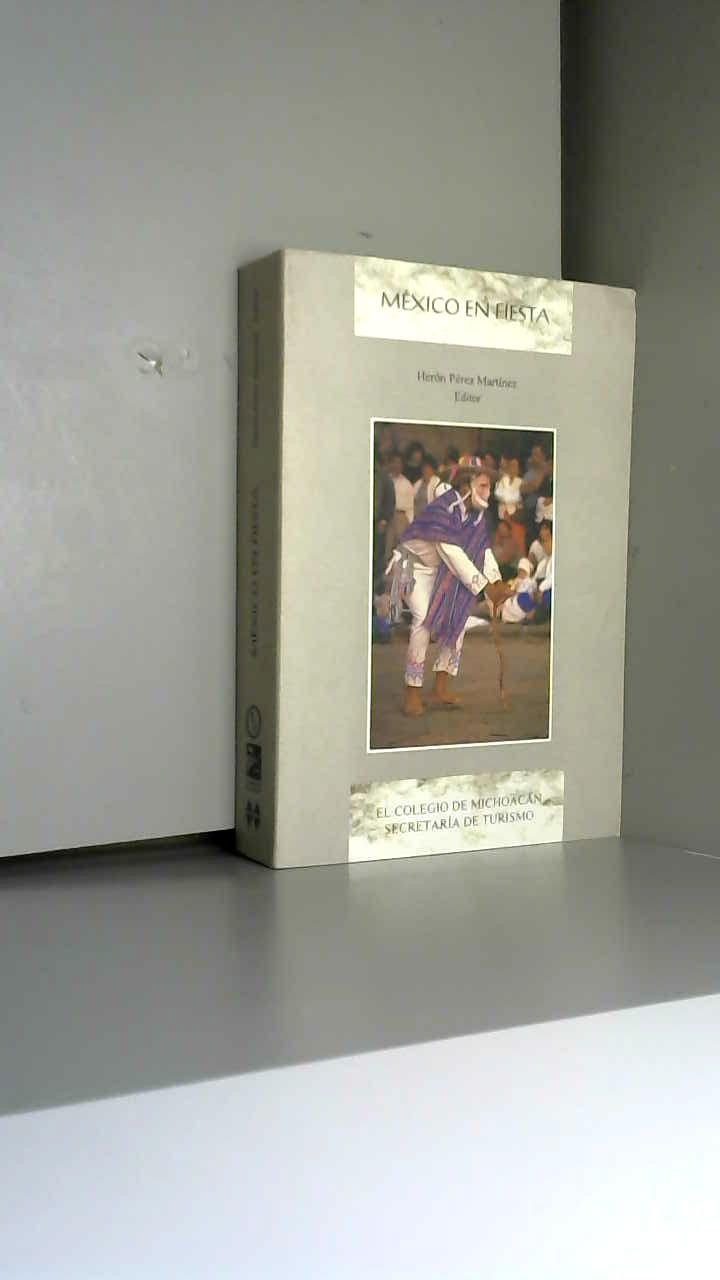book: (210, 220, 720, 887)
